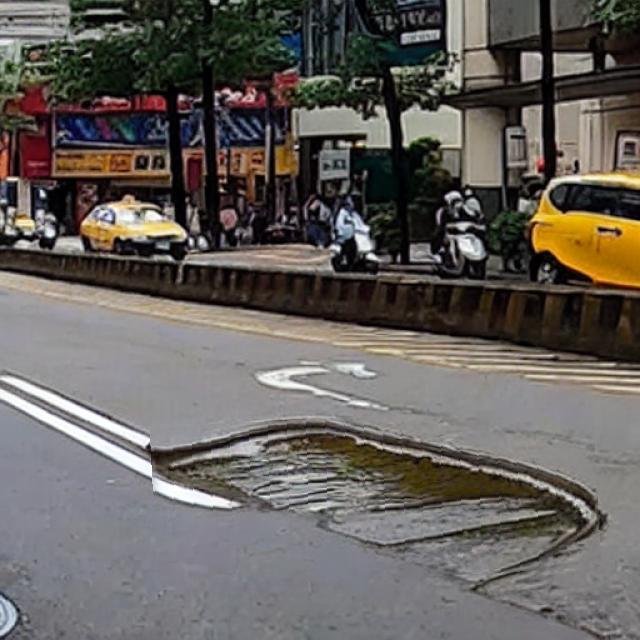puddle: (153, 411, 600, 586)
